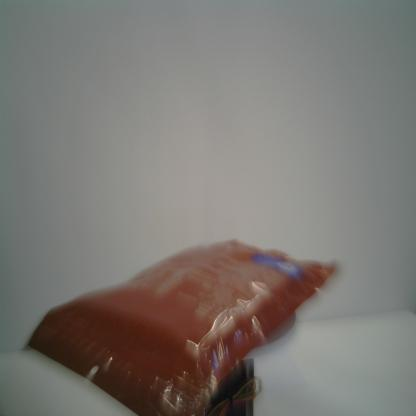Dried Food: (18, 236, 341, 415)
